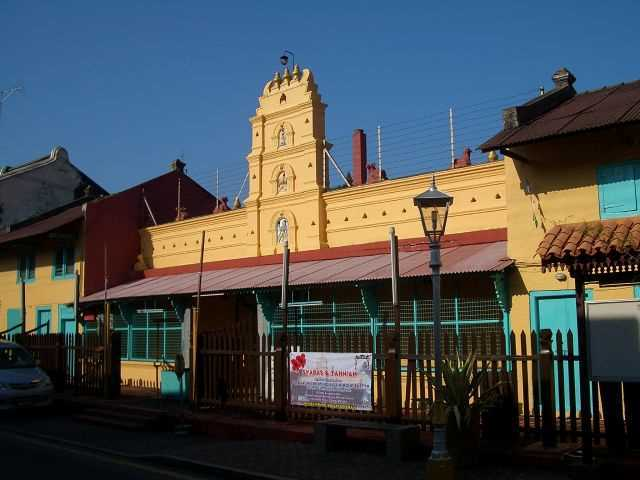Hindu Temple: (169, 65, 494, 250)
